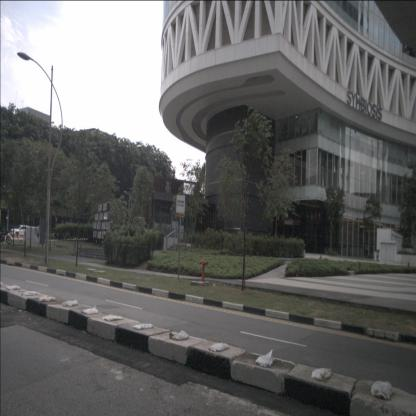human-pedestrian-adult: (37, 225, 40, 240)
vehicle-car: (10, 224, 29, 238)
vehicle-motorcycle: (0, 228, 12, 244)
